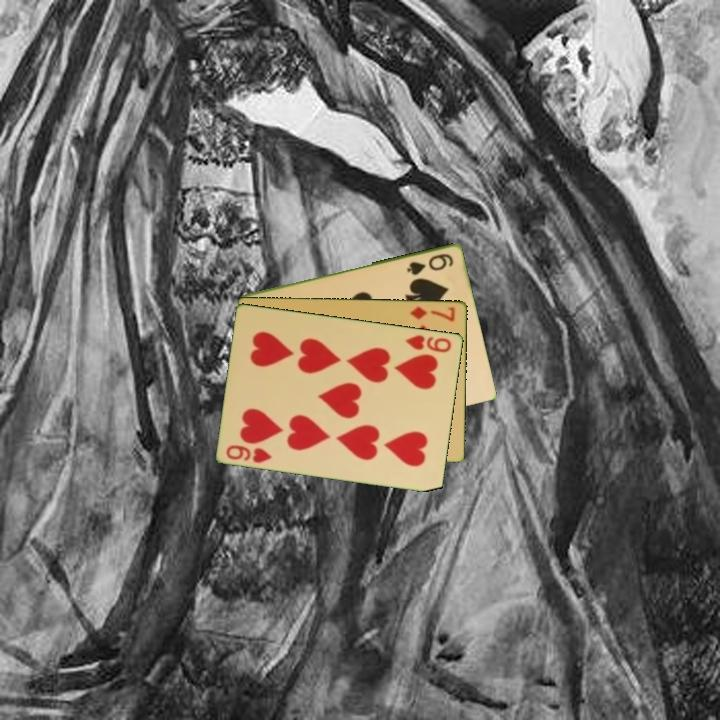6s: (404, 250, 456, 278)
7d: (407, 303, 458, 324)
9h: (223, 441, 275, 466), (402, 331, 454, 355)
